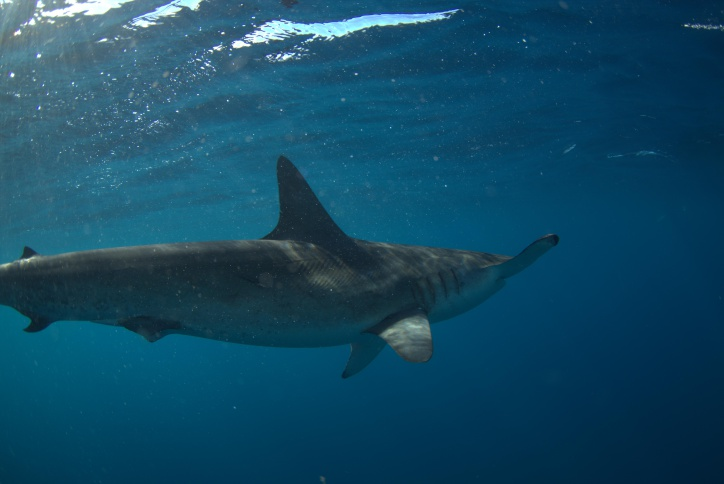Hammer: (1, 150, 585, 390), (186, 212, 452, 319)
